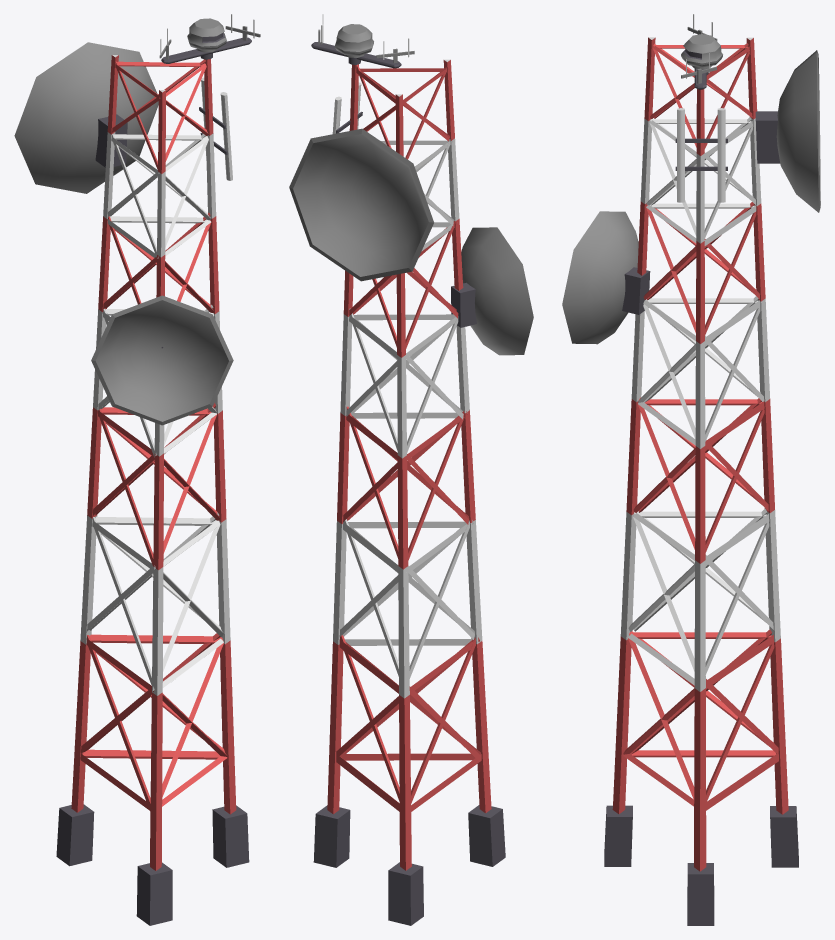
The model's file is Tower01.fbx.
The picture shows the model from 3 angles, left to right: view 1: azimuth 30°, elevation 25°; view 2: azimuth 150°, elevation 25°; view 3: azimuth 270°, elevation 25°; orthographic projection. The views are drawn at different scales.
Visible parts, largest first — view 1: SM_RadioTower:pPrism71; view 2: SM_RadioTower:pPrism71; view 3: SM_RadioTower:pPrism71.
Boxes of the visible parts, box(x1,y1,x2,y2) form: SM_RadioTower:pPrism71: box(14, 14, 260, 925); SM_RadioTower:pPrism71: box(289, 14, 533, 925); SM_RadioTower:pPrism71: box(562, 14, 820, 925).
Bounding box in the file's own units: 8.15 × 34.2 × 9.23.
